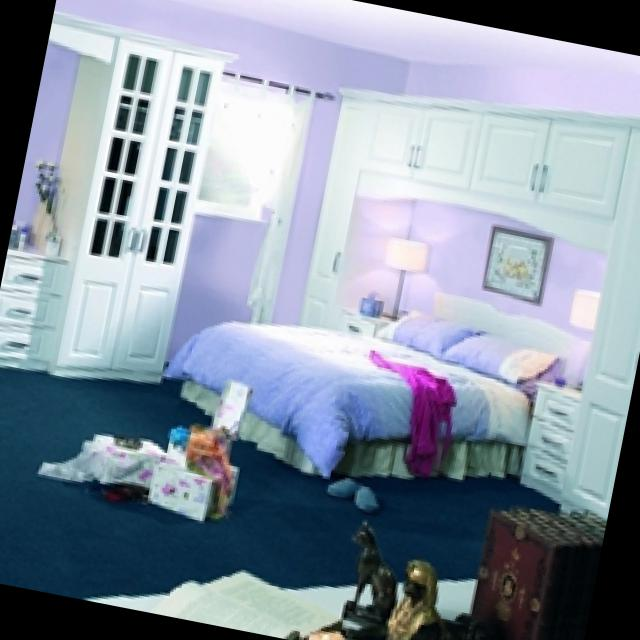2001: (202, 80, 308, 216)
Egyptian figurines: (348, 516, 444, 640)
bed -occluded-: (189, 291, 595, 471)
book case: (160, 566, 342, 636)
bouquet: (39, 160, 70, 243)
box contants: (469, 509, 607, 640)
boxes: (90, 424, 247, 516)
cabinet door: (365, 94, 636, 215), (300, 103, 371, 327)
ceiling beam: (184, 0, 640, 71)
curtain crop: (237, 67, 329, 321)
door bars: (56, 32, 228, 376)
drawers crop: (0, 248, 71, 359)
dresser: (0, 245, 72, 377)
lamp crop: (385, 235, 427, 316), (572, 288, 606, 382), (574, 283, 604, 330)
night stand cabinet: (521, 376, 583, 499)
painting crop: (485, 225, 554, 300)
pillow occluded: (453, 329, 557, 382), (382, 311, 474, 351)
robe: (377, 351, 462, 471)
slippers: (330, 476, 385, 510), (333, 475, 384, 508)
statue: (365, 557, 498, 640), (349, 520, 400, 619)
tissues: (366, 296, 388, 310)
upper cabinet: (476, 111, 634, 212), (365, 107, 485, 188)
wardrobe part: (45, 21, 240, 382), (560, 114, 640, 516), (302, 87, 420, 325)
